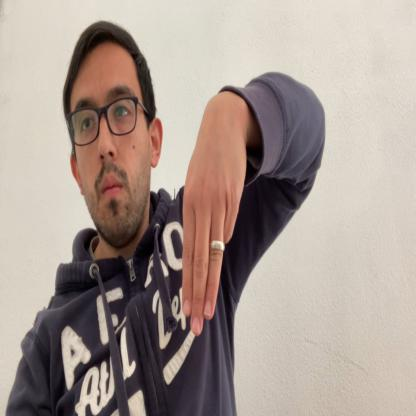M: (183, 99, 247, 336)
